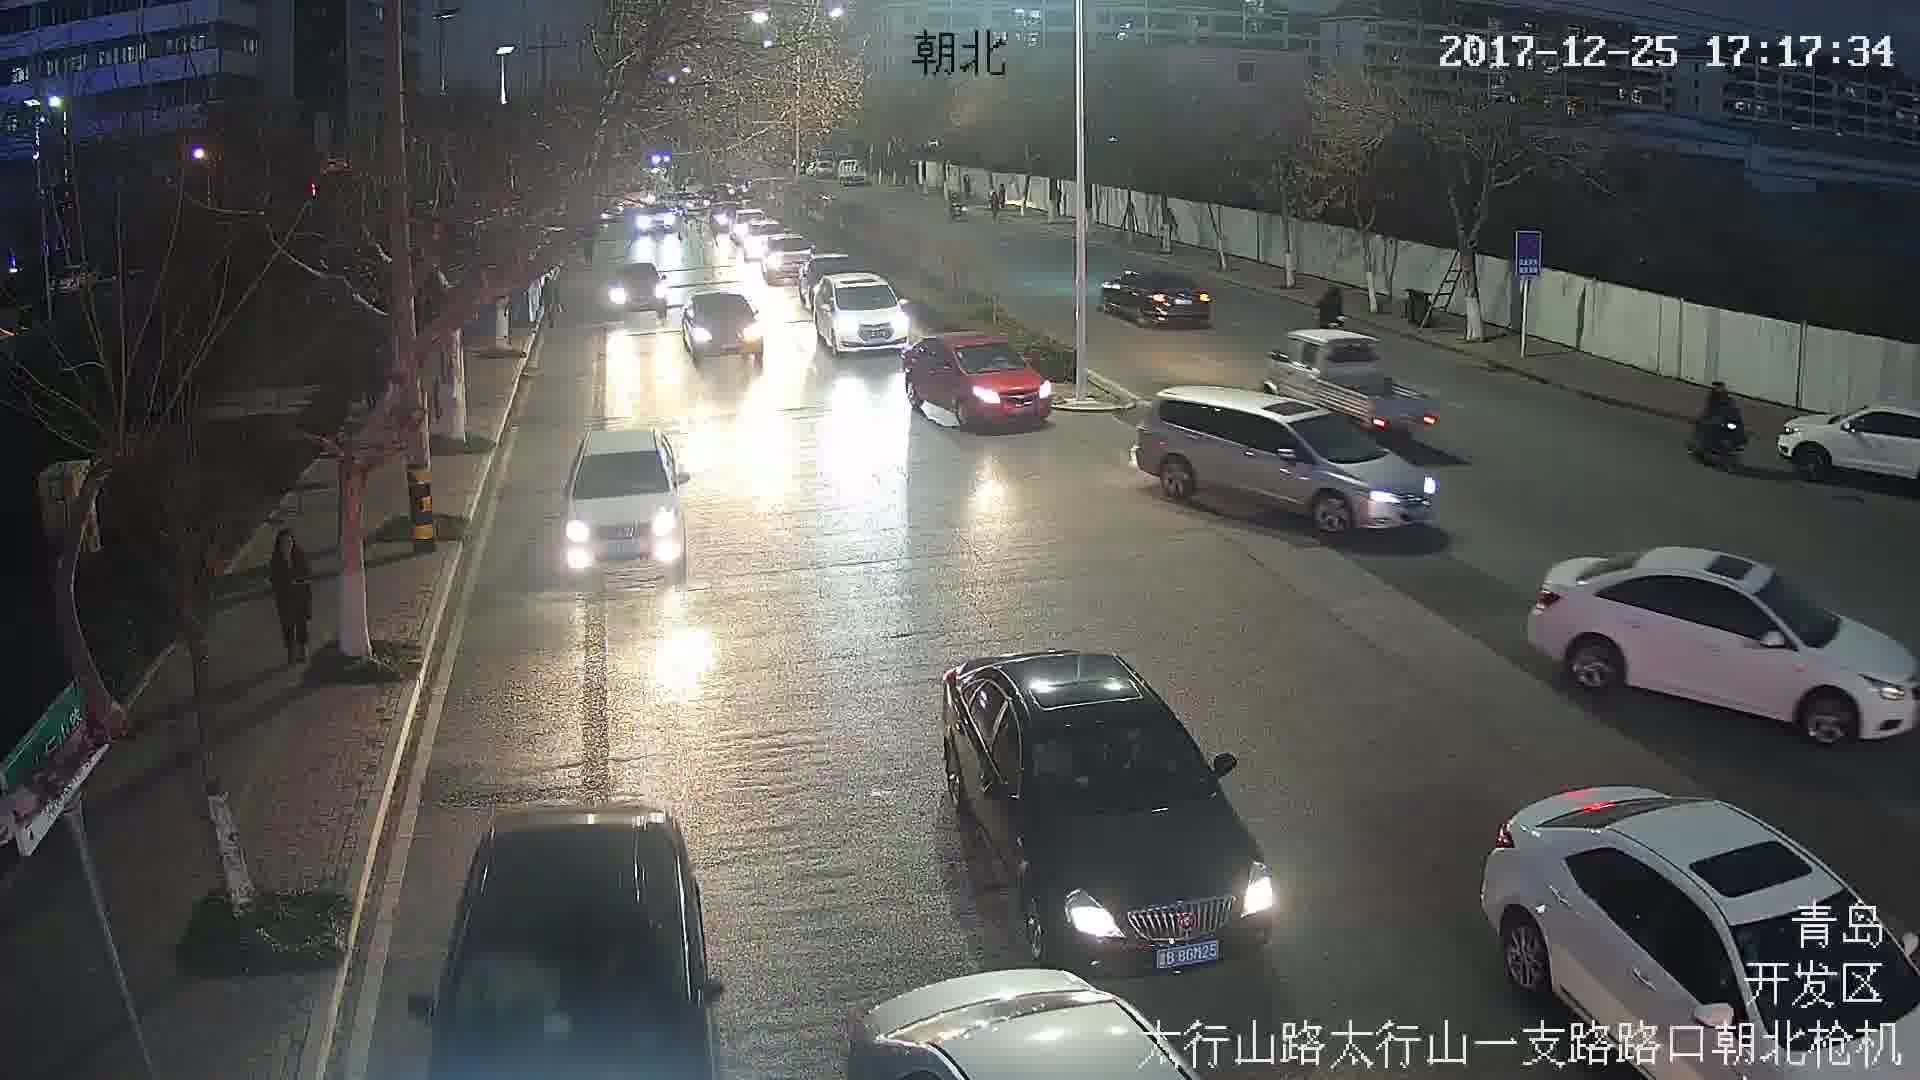car: (927, 653, 1277, 977), (1521, 539, 1916, 744), (1146, 387, 1430, 537), (566, 419, 691, 585), (1275, 327, 1437, 435), (907, 332, 1053, 428), (812, 269, 914, 350), (1098, 271, 1210, 324), (688, 296, 767, 363), (599, 271, 670, 323)
person: (268, 528, 317, 660), (1699, 380, 1743, 478)
